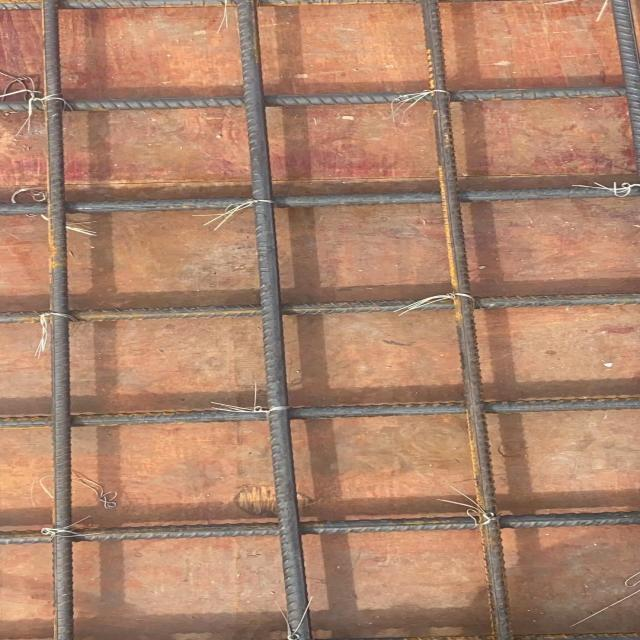ribbed bar: (420, 2, 516, 640), (236, 0, 315, 639), (0, 291, 639, 327), (0, 509, 639, 545), (42, 0, 78, 639), (0, 394, 639, 428), (0, 185, 639, 217), (0, 84, 625, 113), (607, 0, 639, 167)
